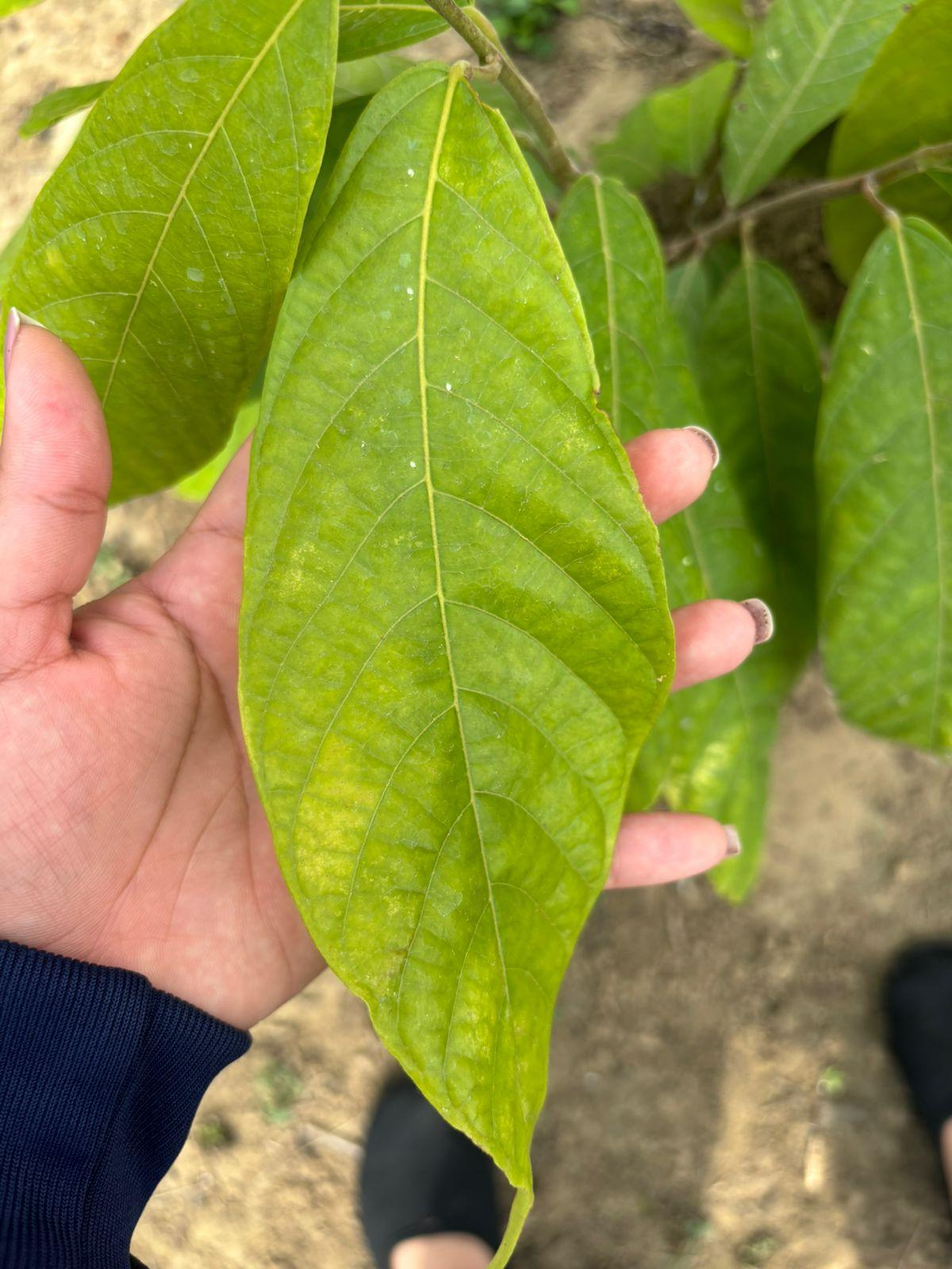deficiencia_nitrogeno: (240, 67, 672, 1187), (6, 0, 337, 500)
